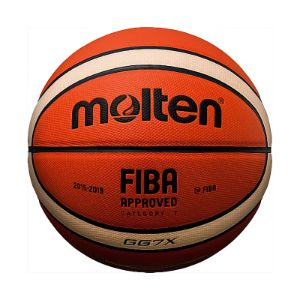baloncesto: (28, 27, 272, 272)
